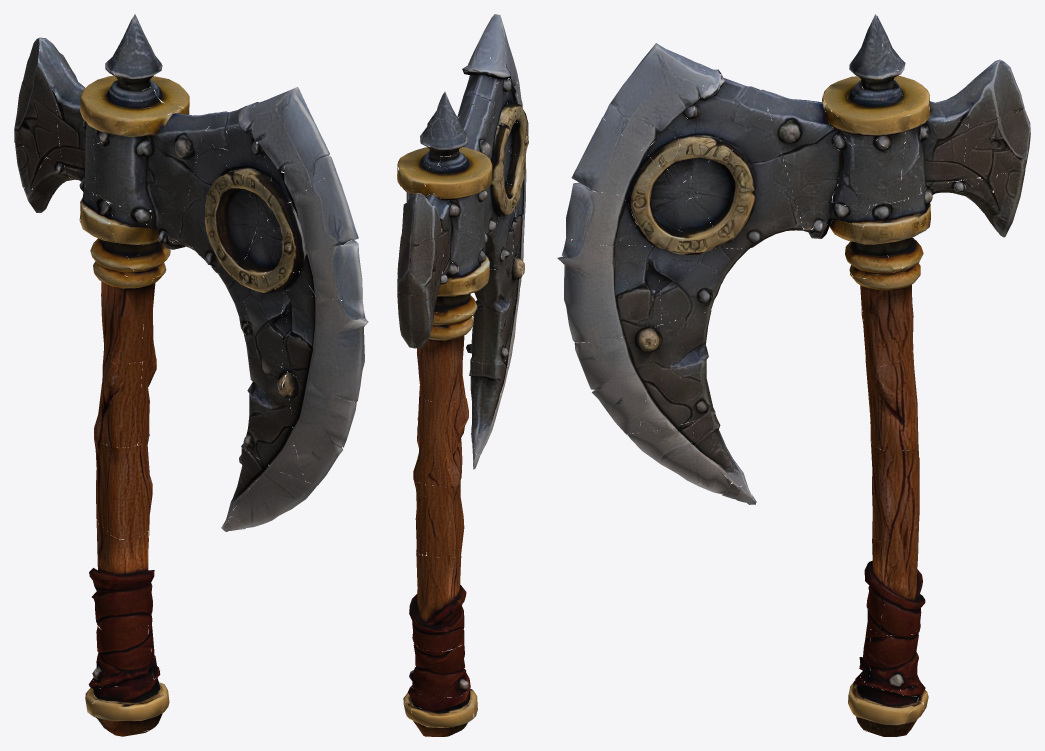
File: machado-tanque490.glb
3 renders of one model, left to right at view 1: azimuth 30°, elevation 25°; view 2: azimuth 150°, elevation 25°; view 3: azimuth 270°, elevation 25°, orthographic. The views are drawn at different scales.
Parts seen in each view (by area): view 1: tripo_node_d7829958-5312-4acc-9a19-b29429f52597; view 2: tripo_node_d7829958-5312-4acc-9a19-b29429f52597; view 3: tripo_node_d7829958-5312-4acc-9a19-b29429f52597.
Boxes of the visible parts, bbox=[...] form: tripo_node_d7829958-5312-4acc-9a19-b29429f52597: bbox=[14, 14, 368, 736]; tripo_node_d7829958-5312-4acc-9a19-b29429f52597: bbox=[397, 14, 528, 736]; tripo_node_d7829958-5312-4acc-9a19-b29429f52597: bbox=[557, 14, 1030, 736].
Size of the model in its own units: 0.1907 by 1 by 0.5996.
Materials: 1 (1 with a texture image).
